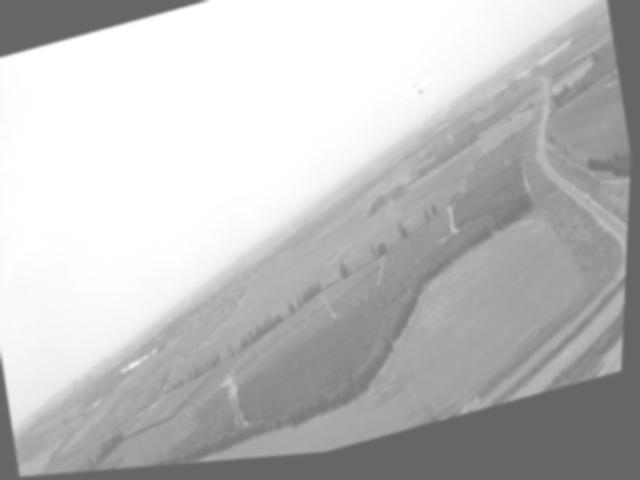hedef: (391, 68, 447, 123)
